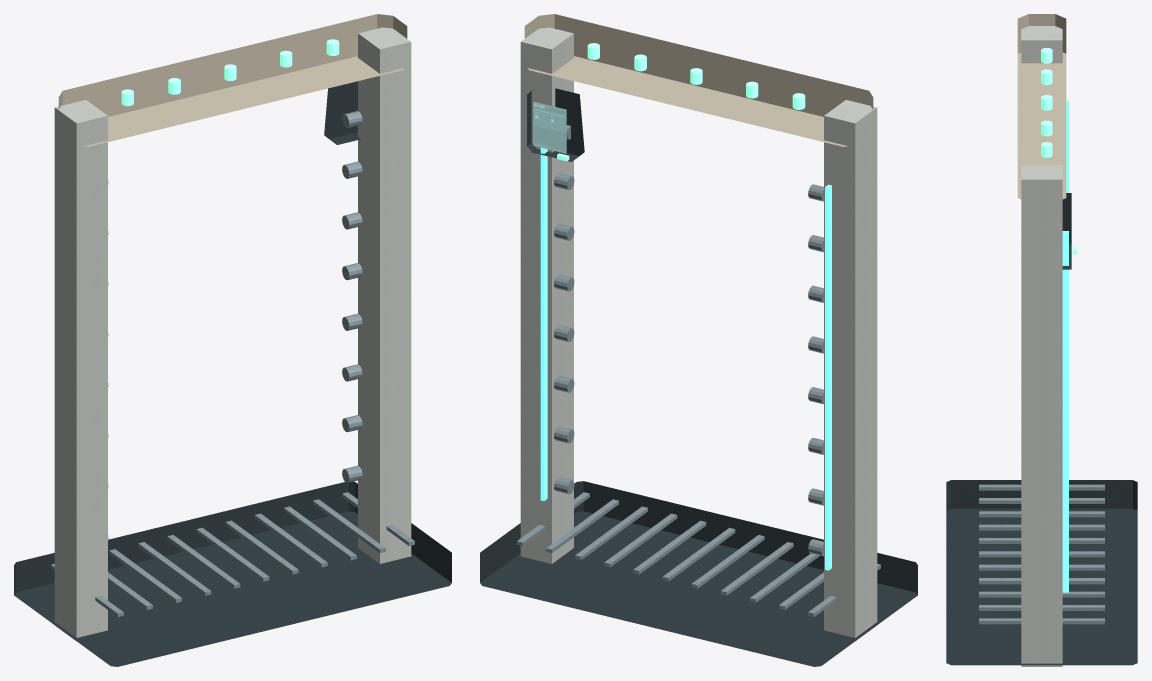
File: decontamination_arch.glb
The picture shows the model from 3 angles, left to right: view 1: azimuth 30°, elevation 25°; view 2: azimuth 150°, elevation 25°; view 3: azimuth 270°, elevation 25°; orthographic projection. The views are drawn at different scales.
Parts seen in each view (by area): view 1: Arch_Frame__shell, Floor_Tray__graphite, Arch_Top__cream, Dust_Catch_Grate__alloy, Dust_Nozzles__alloy, Display__graphite, Arch_Indicators__mint; view 2: Arch_Frame__shell, Floor_Tray__graphite, Arch_Top__cream, Dust_Catch_Grate__alloy, Cleaning_Emitters__cyan, Dust_Nozzles__alloy, Display__graphite, Display__ui_decon, Arch_Indicators__mint; view 3: Floor_Tray__graphite, Arch_Frame__shell, Dust_Catch_Grate__alloy, Arch_Top__cream, Cleaning_Emitters__cyan, Arch_Indicators__mint, Display__graphite.
Boxes of the visible parts, <box> form: Arch_Frame__shell: <box>54,27,411,641</box>; Floor_Tray__graphite: <box>14,481,451,666</box>; Arch_Top__cream: <box>58,14,407,146</box>; Dust_Catch_Grate__alloy: <box>51,492,414,616</box>; Dust_Nozzles__alloy: <box>108,111,362,538</box>; Display__graphite: <box>324,81,360,144</box>; Arch_Indicators__mint: <box>121,39,339,106</box>; Arch_Frame__shell: <box>520,27,877,641</box>; Floor_Tray__graphite: <box>480,481,917,666</box>; Arch_Top__cream: <box>524,14,873,146</box>; Dust_Catch_Grate__alloy: <box>517,492,880,616</box>; Cleaning_Emitters__cyan: <box>540,147,831,570</box>; Dust_Nozzles__alloy: <box>554,125,823,556</box>; Display__graphite: <box>527,88,584,161</box>; Display__ui_decon: <box>533,101,566,153</box>; Arch_Indicators__mint: <box>587,43,805,109</box>; Floor_Tray__graphite: <box>946,480,1137,665</box>; Arch_Frame__shell: <box>1021,26,1062,666</box>; Dust_Catch_Grate__alloy: <box>979,484,1104,624</box>; Arch_Top__cream: <box>1017,14,1066,199</box>; Cleaning_Emitters__cyan: <box>1062,100,1068,592</box>; Arch_Indicators__mint: <box>1041,48,1052,157</box>; Display__graphite: <box>1062,193,1071,269</box>.
Size of the model in its own units: 1.53 by 2.28 by 0.79.
7 materials, 7 textured.
